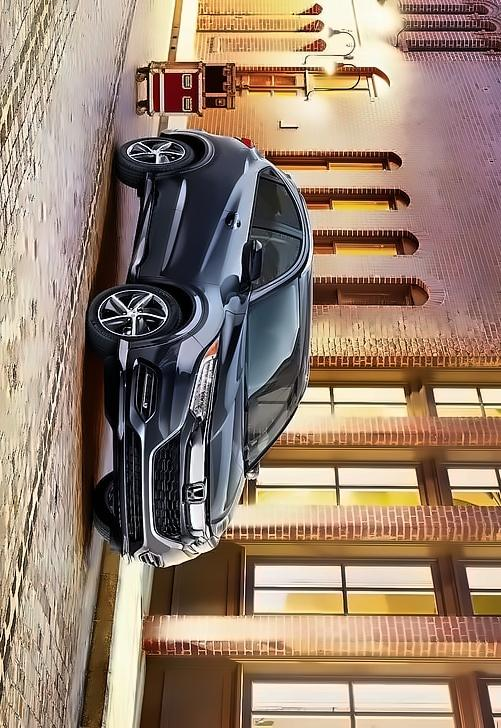Car hood: (205, 298, 256, 547)
Driver-s door - -F-R-: (118, 212, 313, 307)
Fender - -F-R-: (132, 272, 243, 351)
Fender - -R-R-: (146, 126, 266, 181)
Front bumper: (102, 332, 205, 573)
Headlight - -L-: (182, 535, 211, 559)
Headlight - -R-: (186, 328, 225, 431)
Passenger-s door - -R-R-: (125, 163, 317, 241)
Side bumper - -R-: (110, 172, 181, 294)
Side mirror - -R-: (228, 237, 268, 302)
